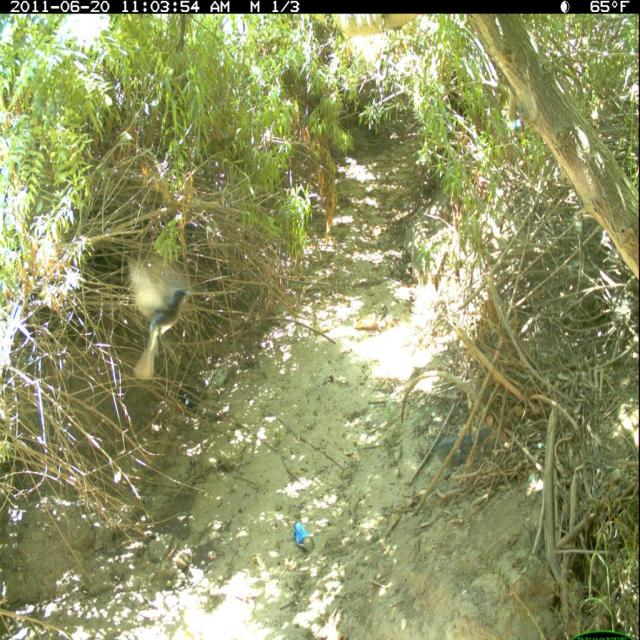bird: (124, 249, 198, 386)
